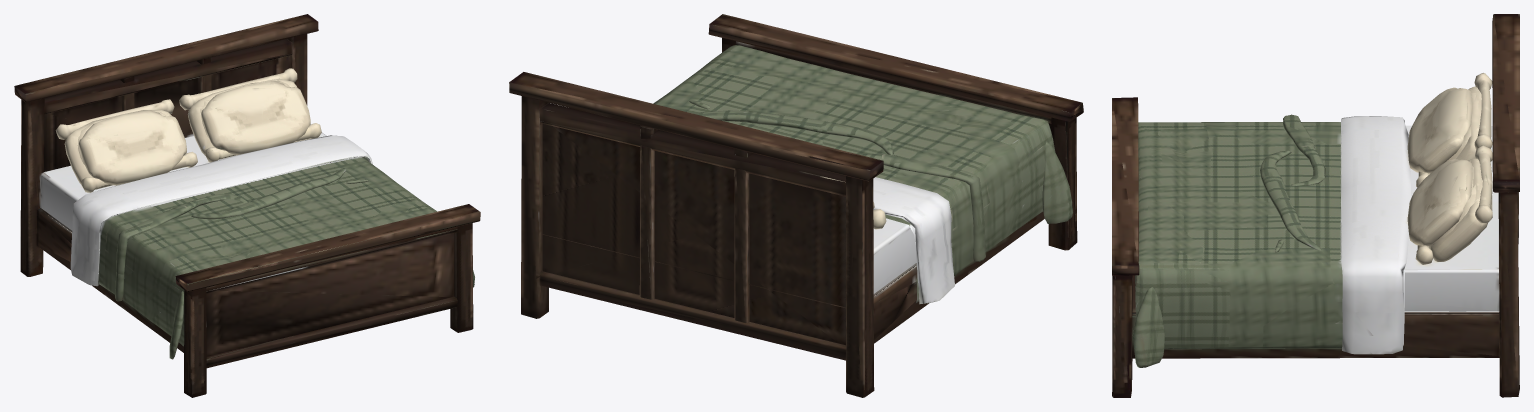
File: Bed_A.glb
The picture shows the model from 3 angles, left to right: view 1: azimuth 30°, elevation 25°; view 2: azimuth 150°, elevation 25°; view 3: azimuth 270°, elevation 25°; orthographic projection. The views are drawn at different scales.
Size of the model in its own units: 1 by 0.5987 by 1.
1 material, 1 textured.
